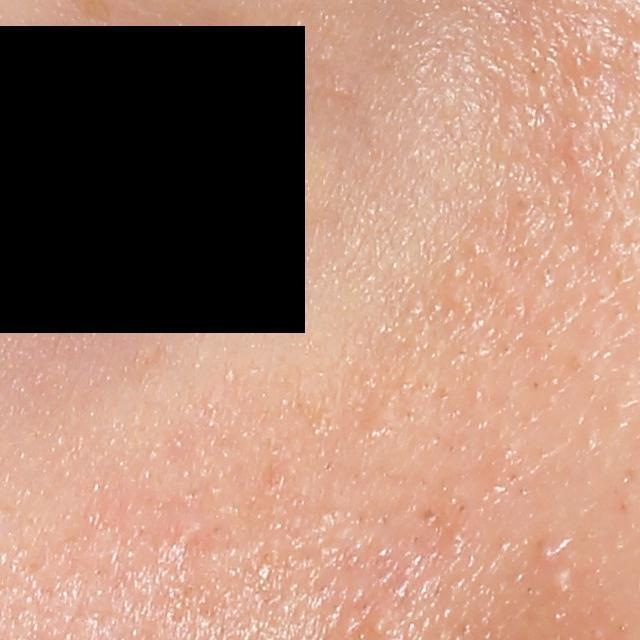comedo: (366, 613, 393, 638), (537, 538, 558, 562)
